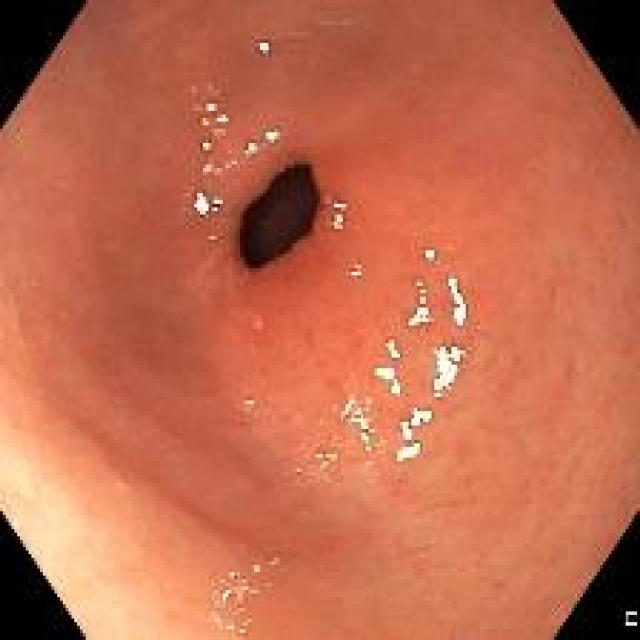contrast: (238, 163, 318, 269)
saturation: (0, 416, 126, 638)
specularity: (431, 344, 465, 399), (331, 395, 368, 431), (445, 275, 467, 327), (329, 198, 349, 230), (408, 305, 434, 329), (409, 403, 434, 427), (397, 441, 424, 462), (315, 450, 339, 470), (192, 189, 210, 215), (413, 278, 428, 304), (373, 362, 396, 378), (385, 339, 400, 363), (398, 418, 414, 440), (265, 127, 281, 146), (358, 430, 371, 452), (209, 196, 221, 215), (256, 39, 270, 55), (388, 378, 400, 396), (245, 141, 258, 157), (350, 267, 362, 281), (424, 248, 435, 262), (203, 102, 215, 113), (200, 140, 211, 152), (198, 115, 209, 126), (215, 113, 226, 123), (242, 399, 254, 406)
